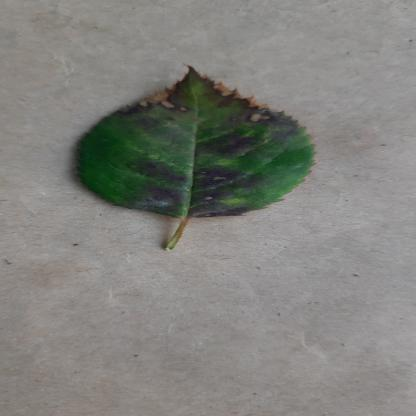downy-mildew: (68, 67, 318, 219)
